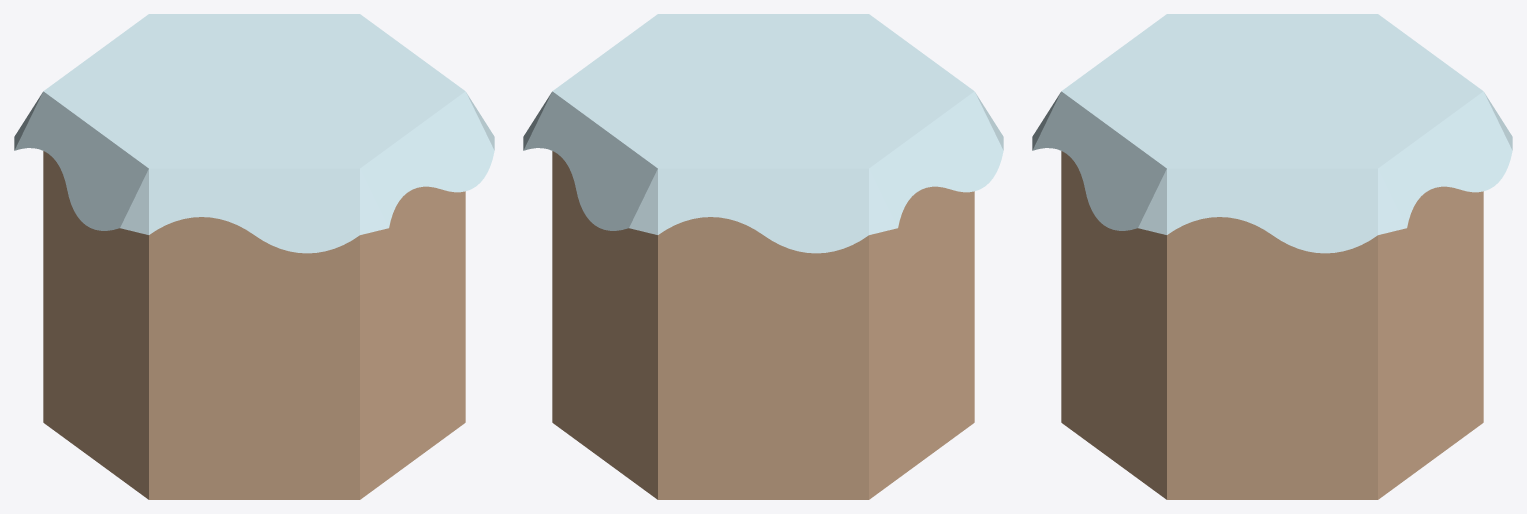
File: blockSnowHexagon.glb
The picture shows the model from 3 angles, left to right: view 1: azimuth 30°, elevation 25°; view 2: azimuth 150°, elevation 25°; view 3: azimuth 270°, elevation 25°; orthographic projection.
Visible parts, largest first — view 1: blockSnowHexagon(Clone); view 2: blockSnowHexagon(Clone); view 3: blockSnowHexagon(Clone).
Part boxes in pixels (x1,y1,x2,y2): blockSnowHexagon(Clone): (14, 14, 494, 499); blockSnowHexagon(Clone): (523, 14, 1003, 499); blockSnowHexagon(Clone): (1032, 14, 1512, 499).
Bounding box in the file's own units: 1.23 × 1 × 1.31.
